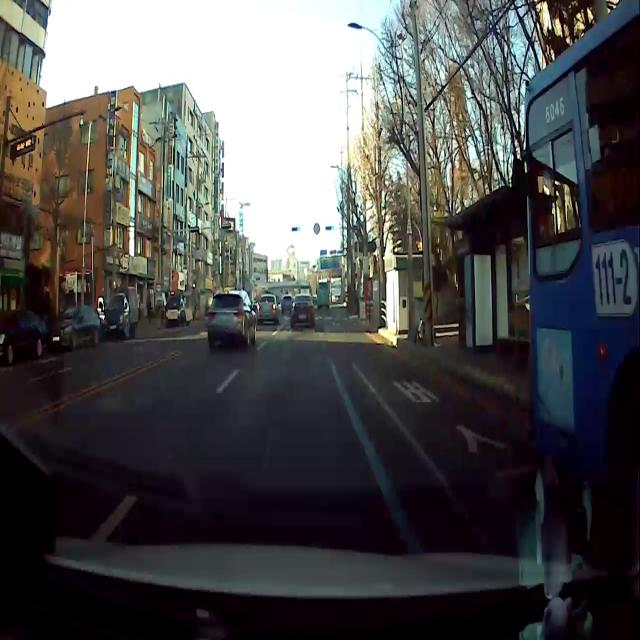Green Light: (330, 224, 334, 232), (296, 226, 301, 232)
